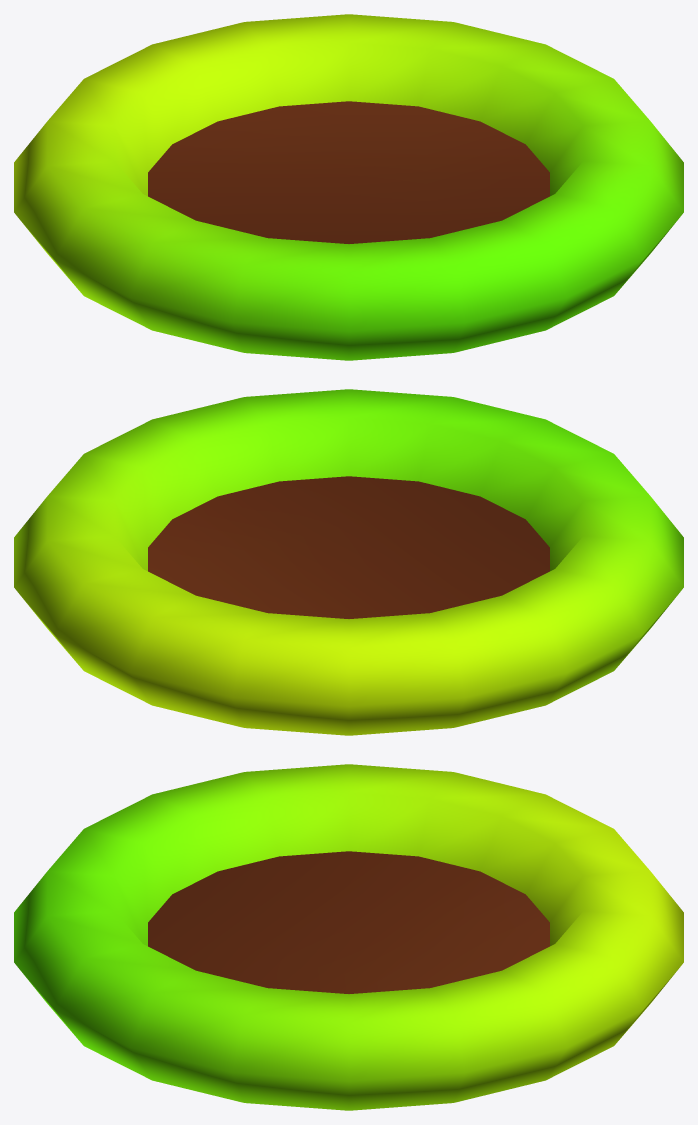
Rendered from Platform_Grass.fbx.
3 views of the same model, one above another, from view 1: azimuth 30°, elevation 25°; view 2: azimuth 150°, elevation 25°; view 3: azimuth 270°, elevation 25° (orthographic).
Visible parts, largest first — view 1: Grass_Base; view 2: Grass_Base; view 3: Grass_Base.
Boxes of the visible parts, left/top/right/bottom form: Grass_Base: left=14, top=14, right=683, bottom=360; Grass_Base: left=14, top=389, right=683, bottom=735; Grass_Base: left=14, top=764, right=683, bottom=1110.
Bounding box in the file's own units: 2.71 × 0.3861 × 2.67.
1 material, 1 textured.
